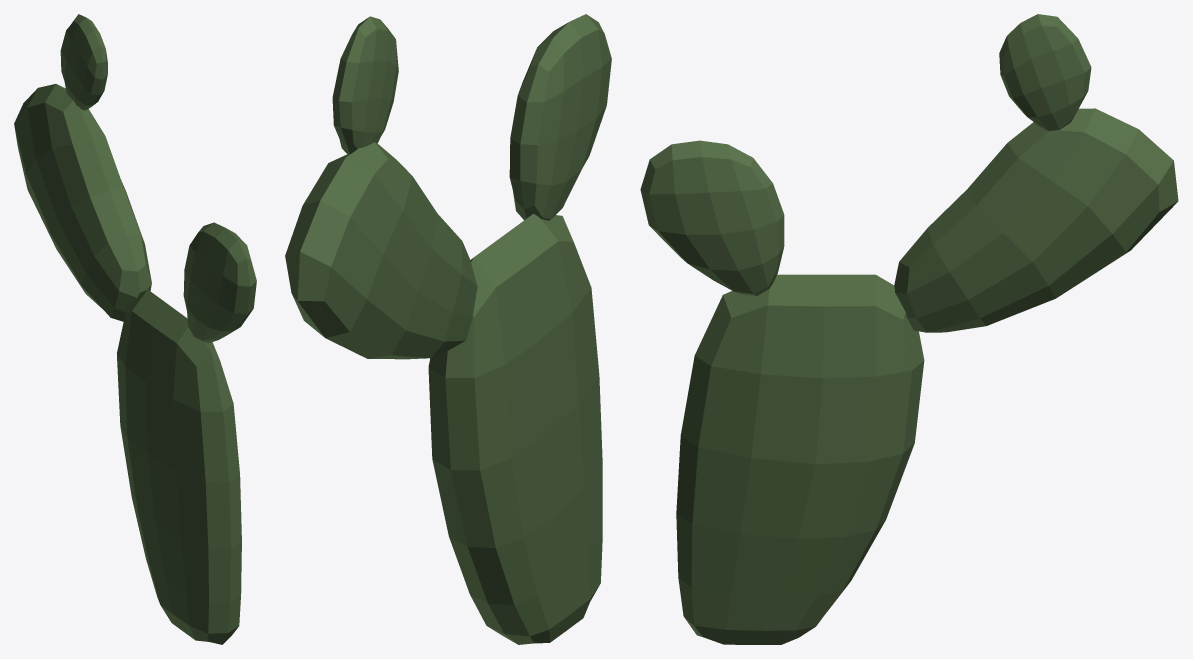
The model's file is cactus_5.glb.
3 renders of one model, left to right at view 1: azimuth 30°, elevation 25°; view 2: azimuth 150°, elevation 25°; view 3: azimuth 270°, elevation 25°, orthographic. The views are drawn at different scales.
Visible parts, largest first — view 1: Cactus_5; view 2: Cactus_5; view 3: Cactus_5.
Part boxes in pixels (box(x1,y1,x2,y2)): Cactus_5: box(14, 14, 256, 644); Cactus_5: box(285, 14, 611, 644); Cactus_5: box(640, 14, 1178, 644).
Size of the model in its own units: 0.1116 by 0.8812 by 0.6804.
